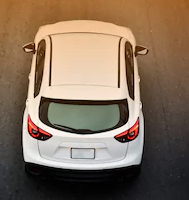car: (20, 19, 148, 188)
